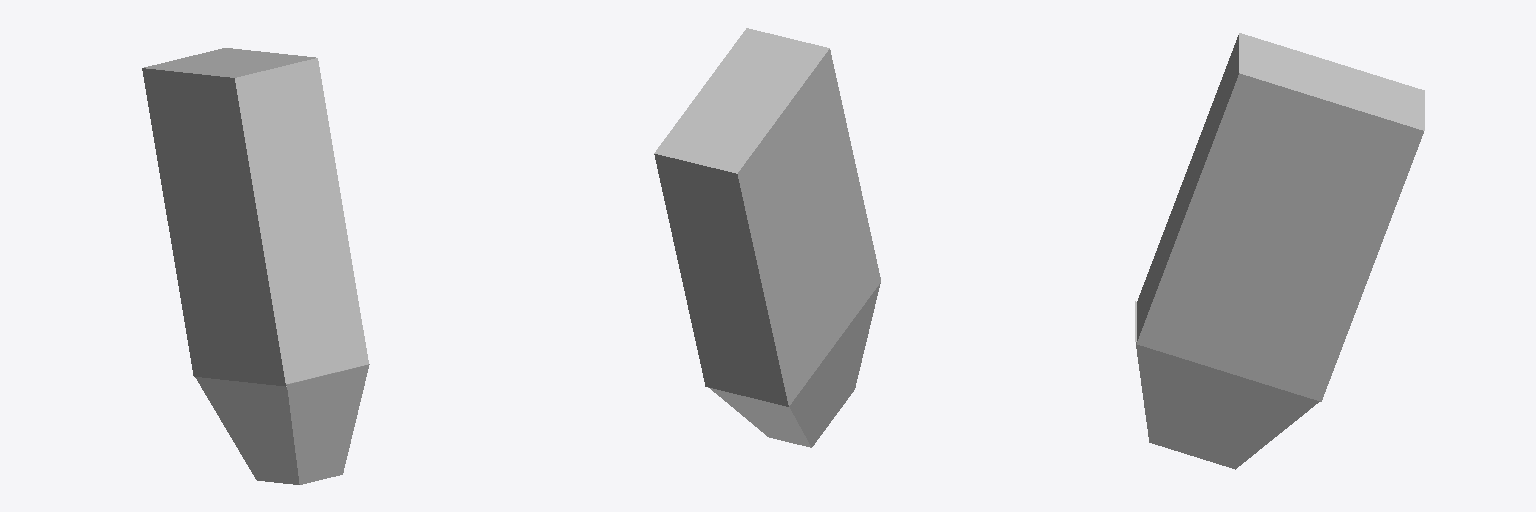
Rendered from R2D2Articulation.obj.
3 views of the same model, side by side, from view 1: azimuth 30°, elevation 25°; view 2: azimuth 150°, elevation 25°; view 3: azimuth 270°, elevation 25° (orthographic).
Visible parts, largest first — view 1: r2d2.001; view 2: r2d2.001; view 3: r2d2.001.
Boxes of the visible parts, box(x1,y1,x2,y2) form: r2d2.001: box(142, 48, 369, 484); r2d2.001: box(654, 28, 880, 447); r2d2.001: box(1135, 33, 1424, 469).
Size of the model in its own units: 0.326 by 1.52 by 0.9794.